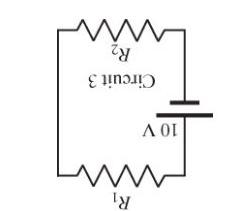Battery: (151, 83, 215, 118)
